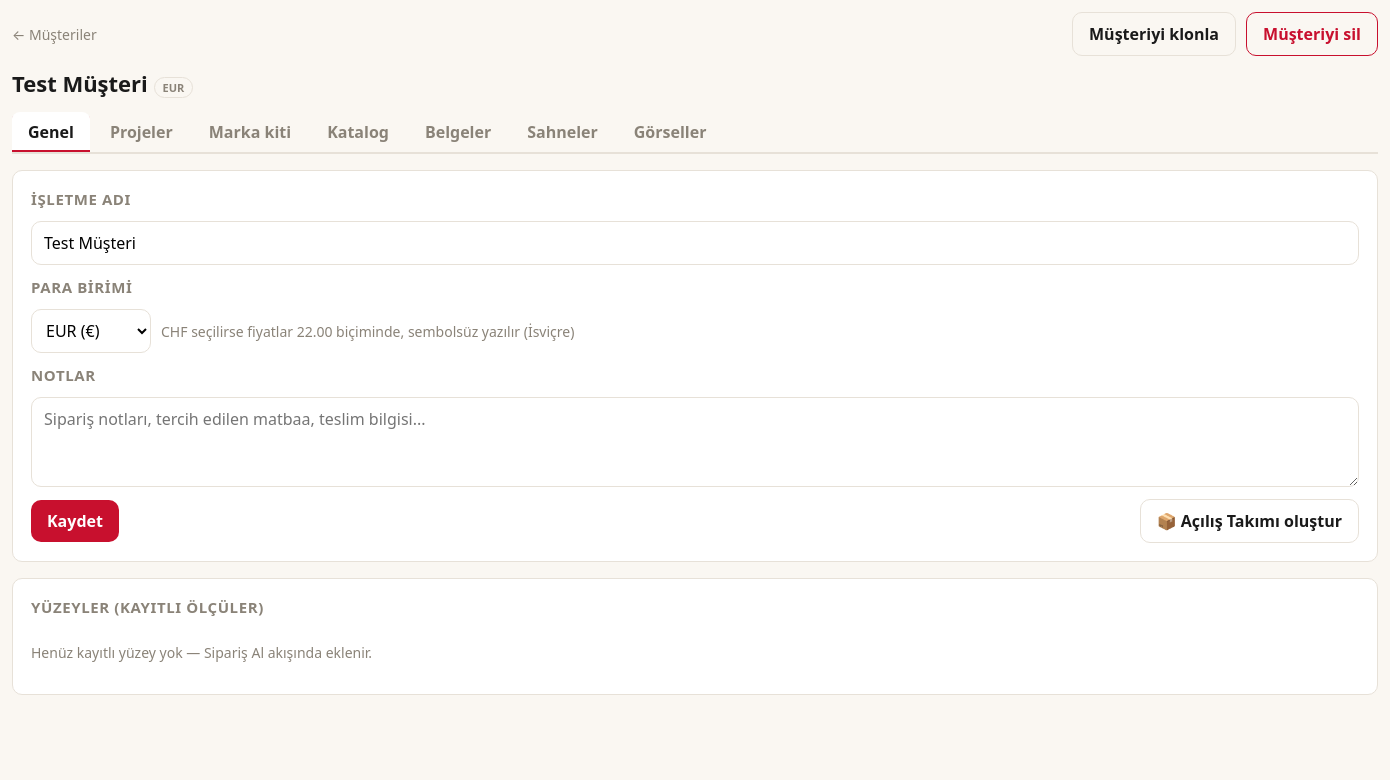
Test: Açılış Takımı — preset + belgeler tek işlemde › PROJE OKUNAMAZSA kalemler DURUR — preset geri alınmaz, durum söylenir
What coordinates should you click on to do the following:
click the button "📦 Açılış Takımı oluştur"
I would click on:
 (1249, 521)
Its box is 1140,499 -> 1359,543.
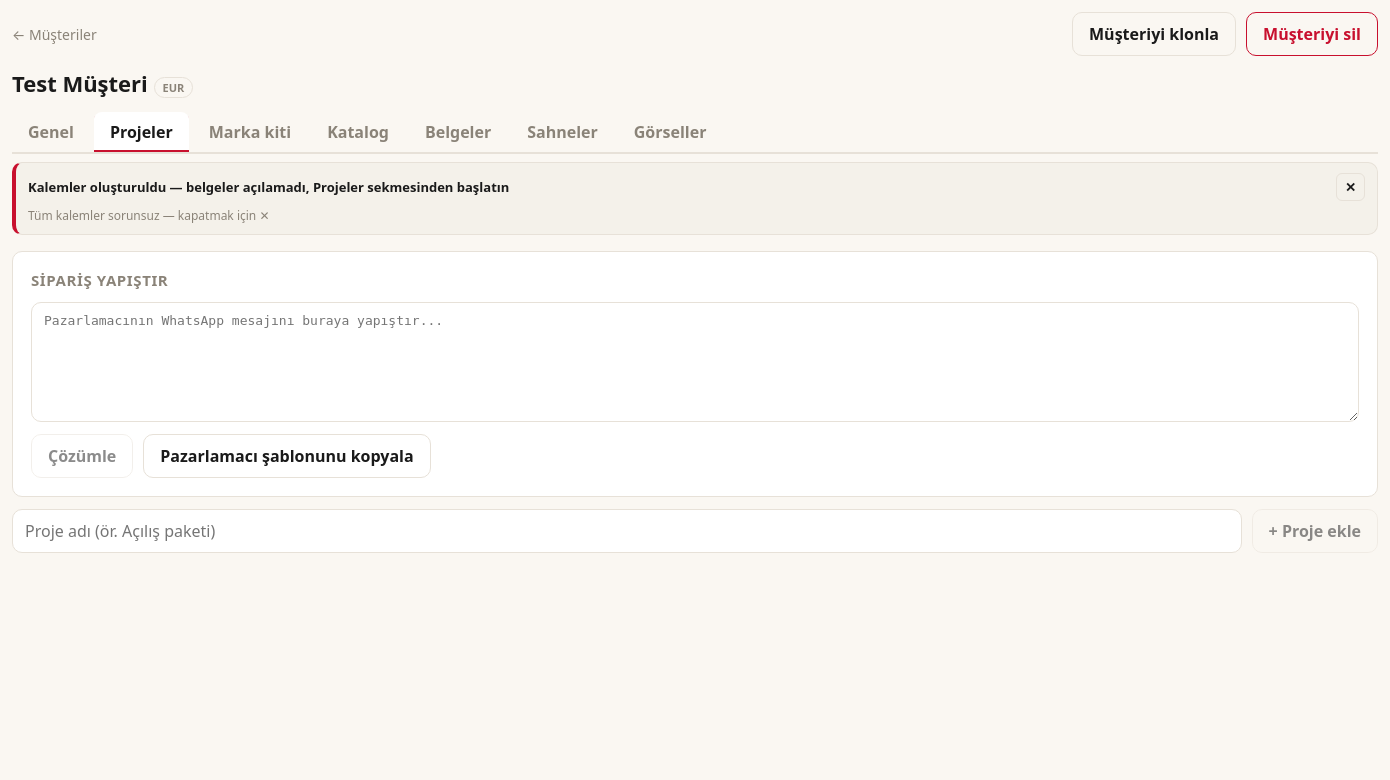
Expected: the text "Kalemler oluşturuldu" is shown, 28,178 -> 509,196
